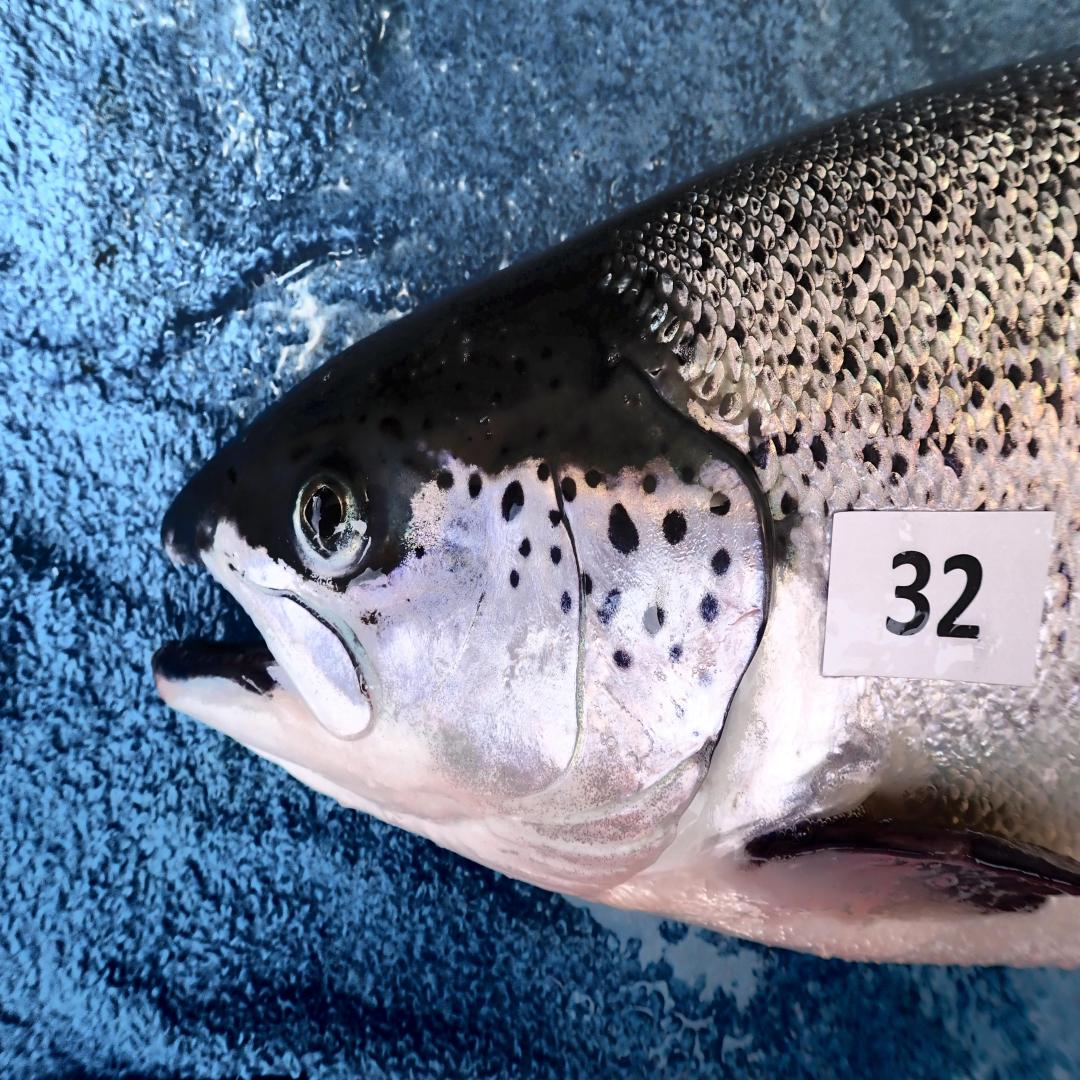spot: (608, 503, 639, 554), (662, 509, 688, 546), (502, 481, 525, 520), (597, 588, 620, 624), (643, 605, 664, 636), (711, 548, 730, 577), (700, 593, 719, 622), (711, 492, 730, 515), (641, 472, 658, 495), (561, 475, 576, 501), (468, 472, 483, 498), (584, 470, 603, 489), (614, 650, 633, 669), (679, 465, 697, 484), (437, 470, 454, 489), (669, 644, 683, 664), (538, 461, 551, 481), (519, 537, 532, 557), (548, 509, 563, 526), (580, 574, 593, 593), (561, 591, 572, 613), (508, 568, 519, 588), (551, 546, 561, 565), (413, 545, 424, 559)
